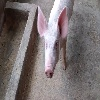heo: (34, 3, 71, 78)
